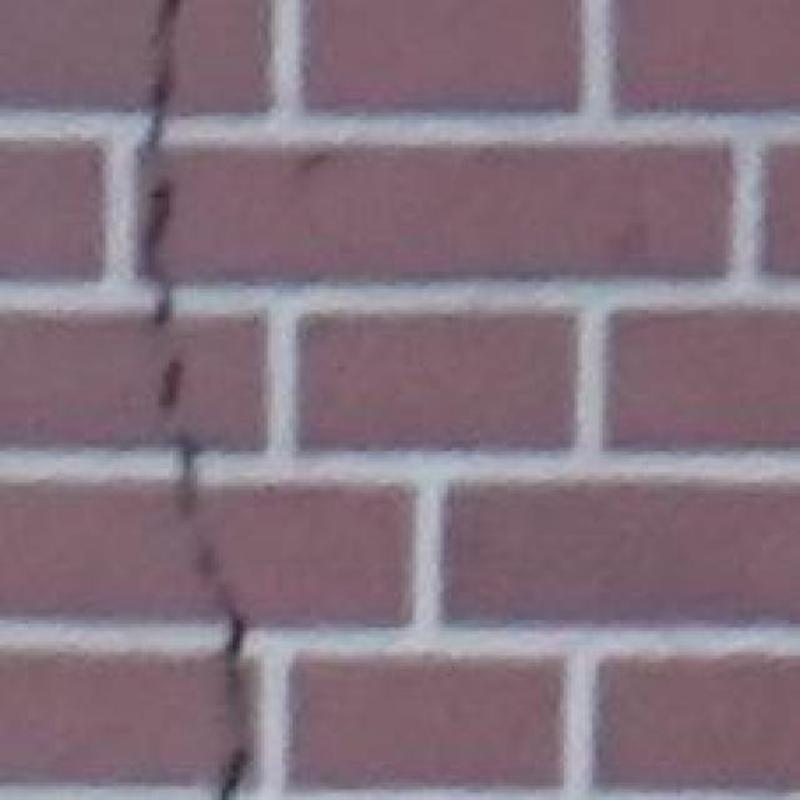pothole: (189, 538, 250, 799), (139, 0, 179, 327), (158, 352, 205, 524)
